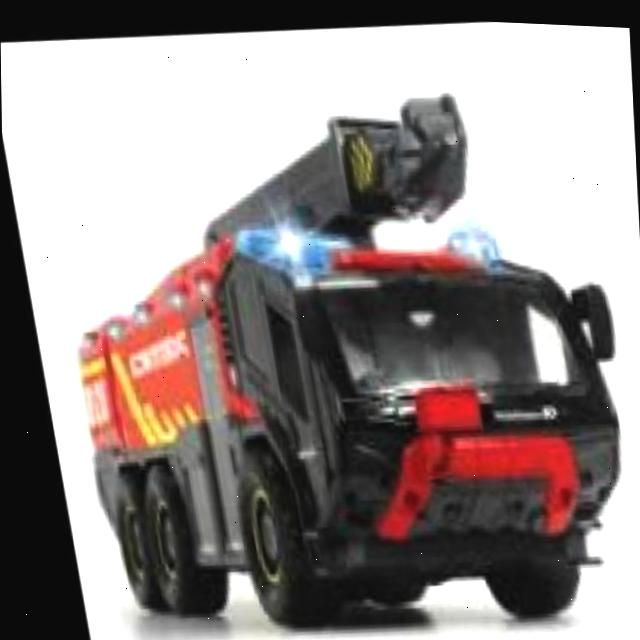emergency: (62, 68, 630, 640)
